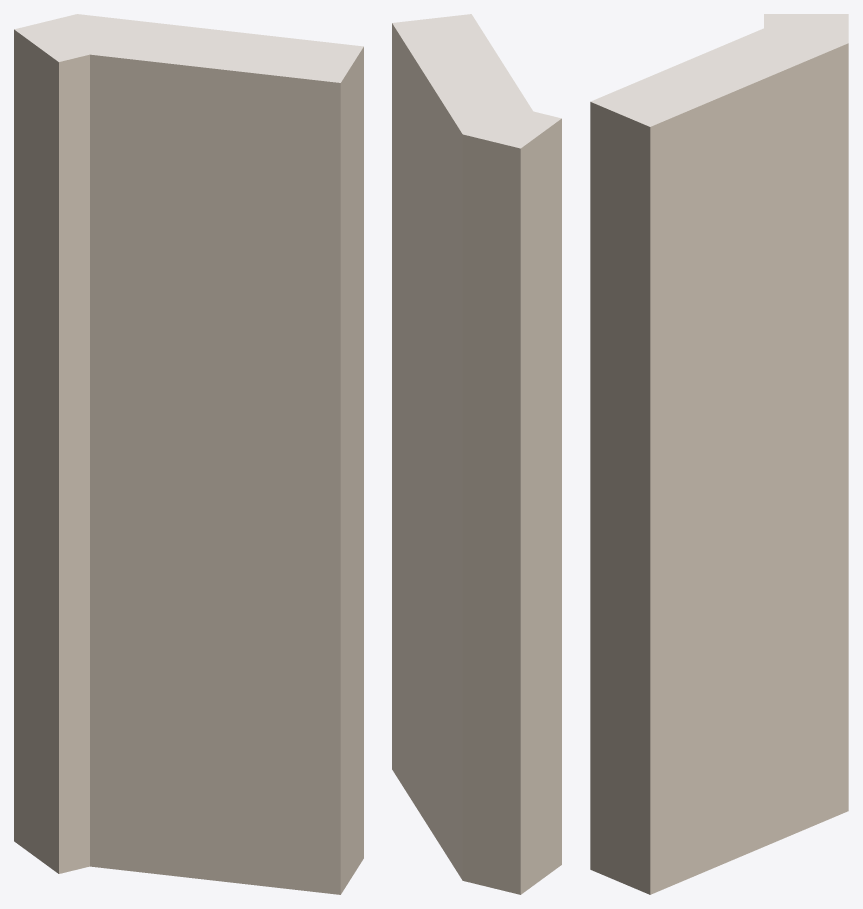
3 views of the same model, side by side, from view 1: azimuth 30°, elevation 25°; view 2: azimuth 150°, elevation 25°; view 3: azimuth 270°, elevation 25° (orthographic). The views are drawn at different scales.
Visible parts, largest first — view 1: object1.008; view 2: object1.008; view 3: object1.008.
Part boxes in pixels (x1,y1,x2,y2): object1.008: [14, 14, 363, 894]; object1.008: [392, 14, 561, 894]; object1.008: [590, 14, 848, 894].
Bounding box in the file's own units: 0.6314 × 2 × 0.6101.
